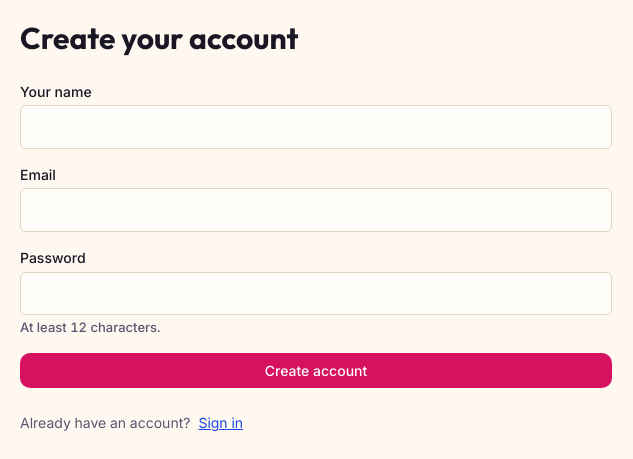
credential form › refuses a password below the shared minimum length on sign up
Type "Nia" into the field labelled "Your name" at (316, 127), box top-left (20, 105), bottom-right (612, 149)
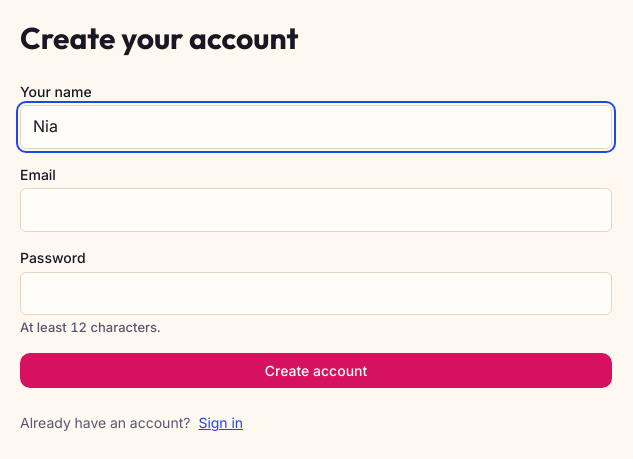
Type "nia@plotpop.test" into the field labelled "Email" at (316, 210), box top-left (20, 188), bottom-right (612, 232)
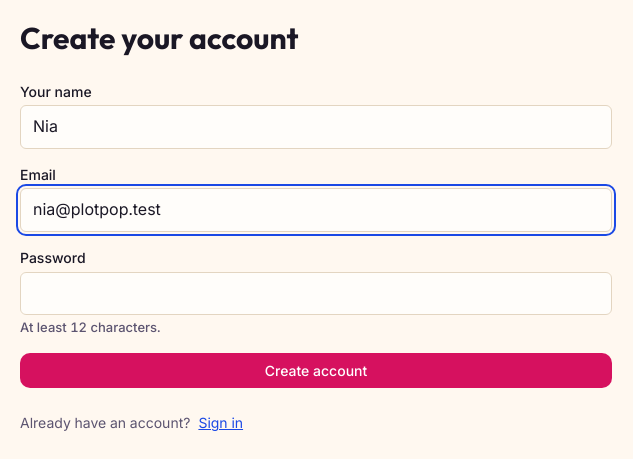
Type "tooshort" into the password field labelled "Password" at (316, 293), box top-left (20, 272), bottom-right (612, 315)
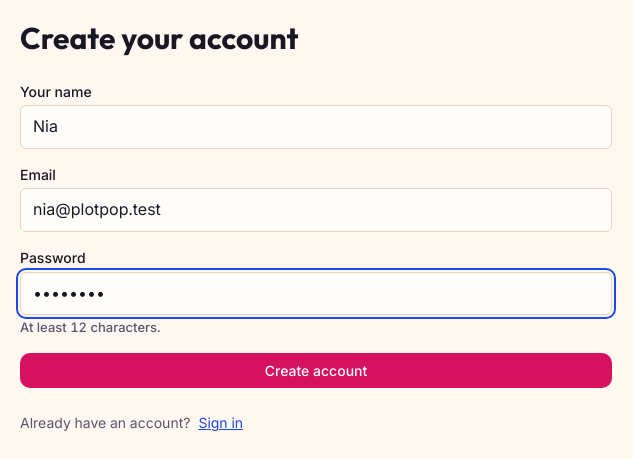
Click the button "Create account" at (316, 370), box top-left (20, 353), bottom-right (612, 388)
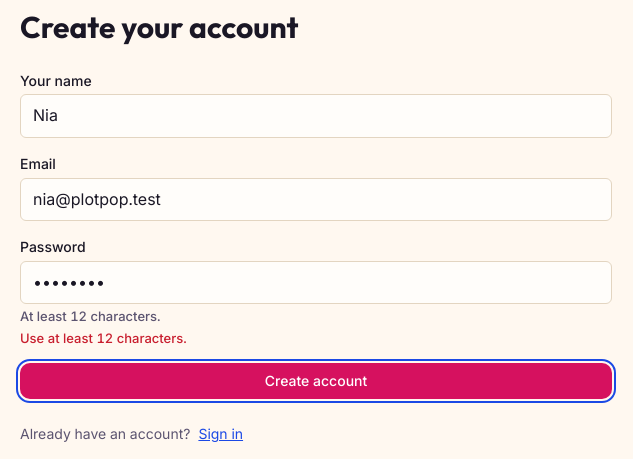
Result: the text "Use at least 12 characters." is shown at top-left (20, 330), bottom-right (187, 346)
